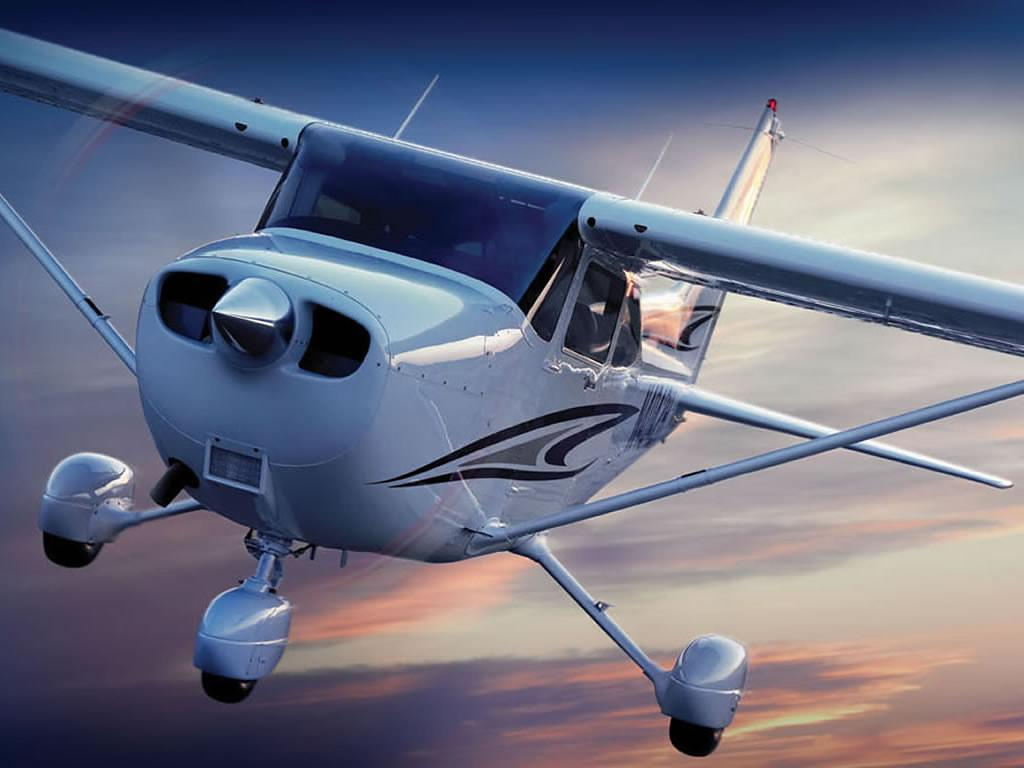plane: (2, 26, 1023, 759)
